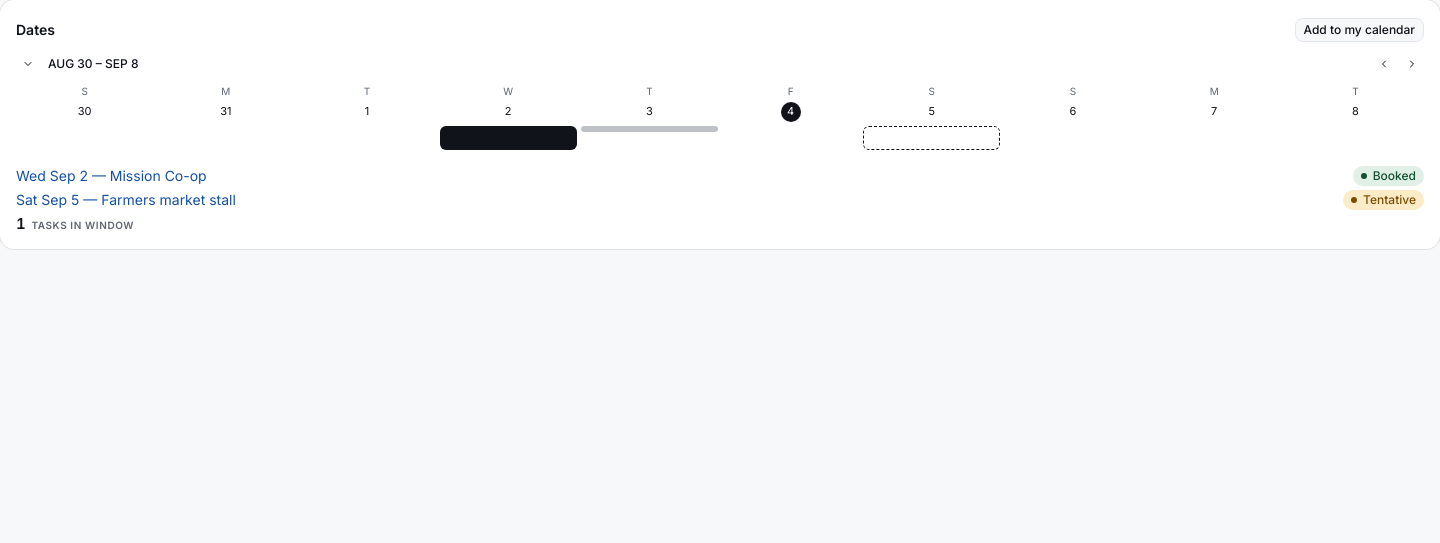
Test: DatesPanel › pins the header right slot height so the calendar/preview swap cannot shift the row
Step 1. Click the button named "Toggle month" → (28, 64), box [16,52,40,76]
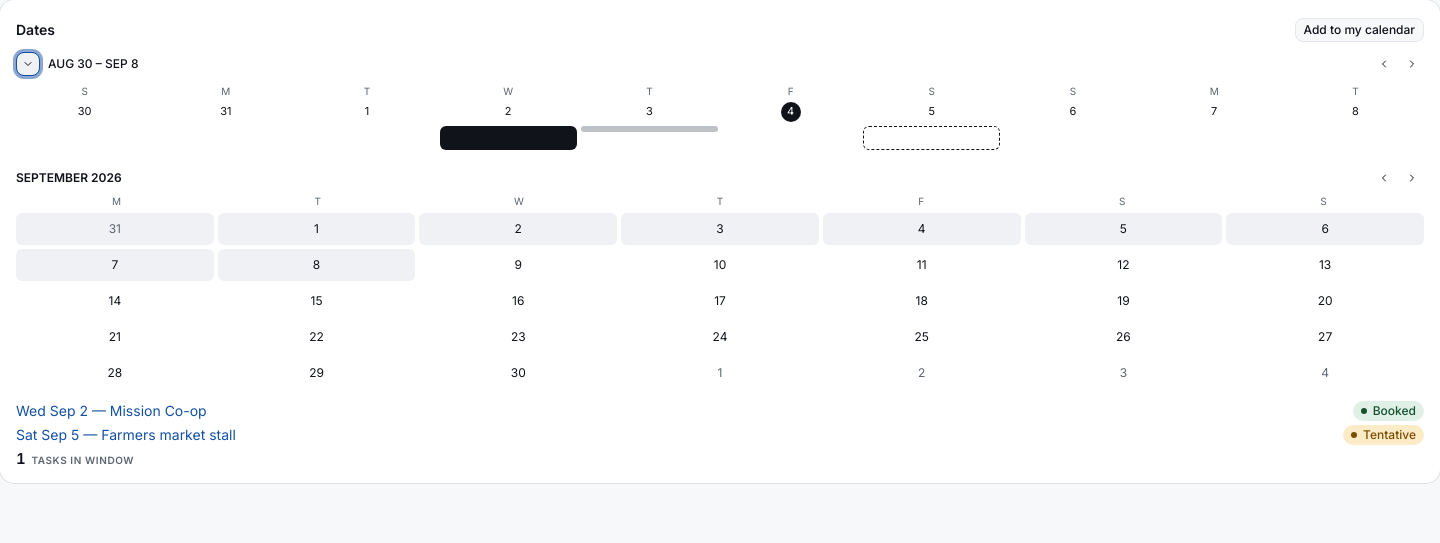
Step 2. Hover over the button named "Sep 14" → (115, 301), box [16,285,214,317]
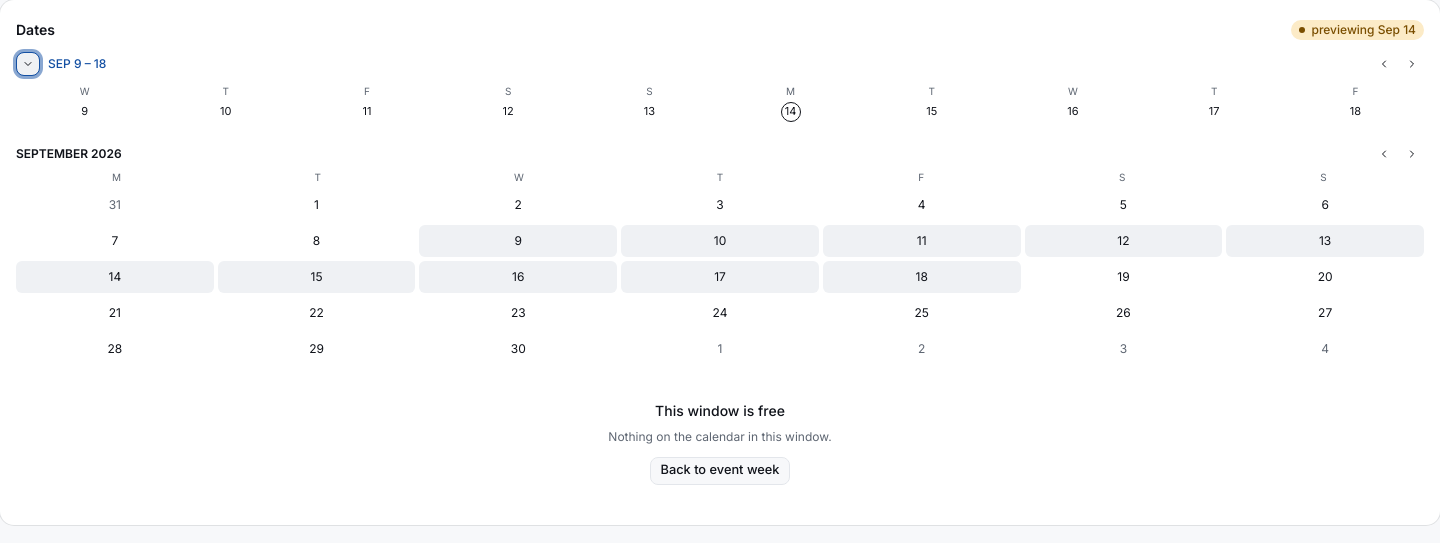
Expected: the button "Add to my calendar" is gone
